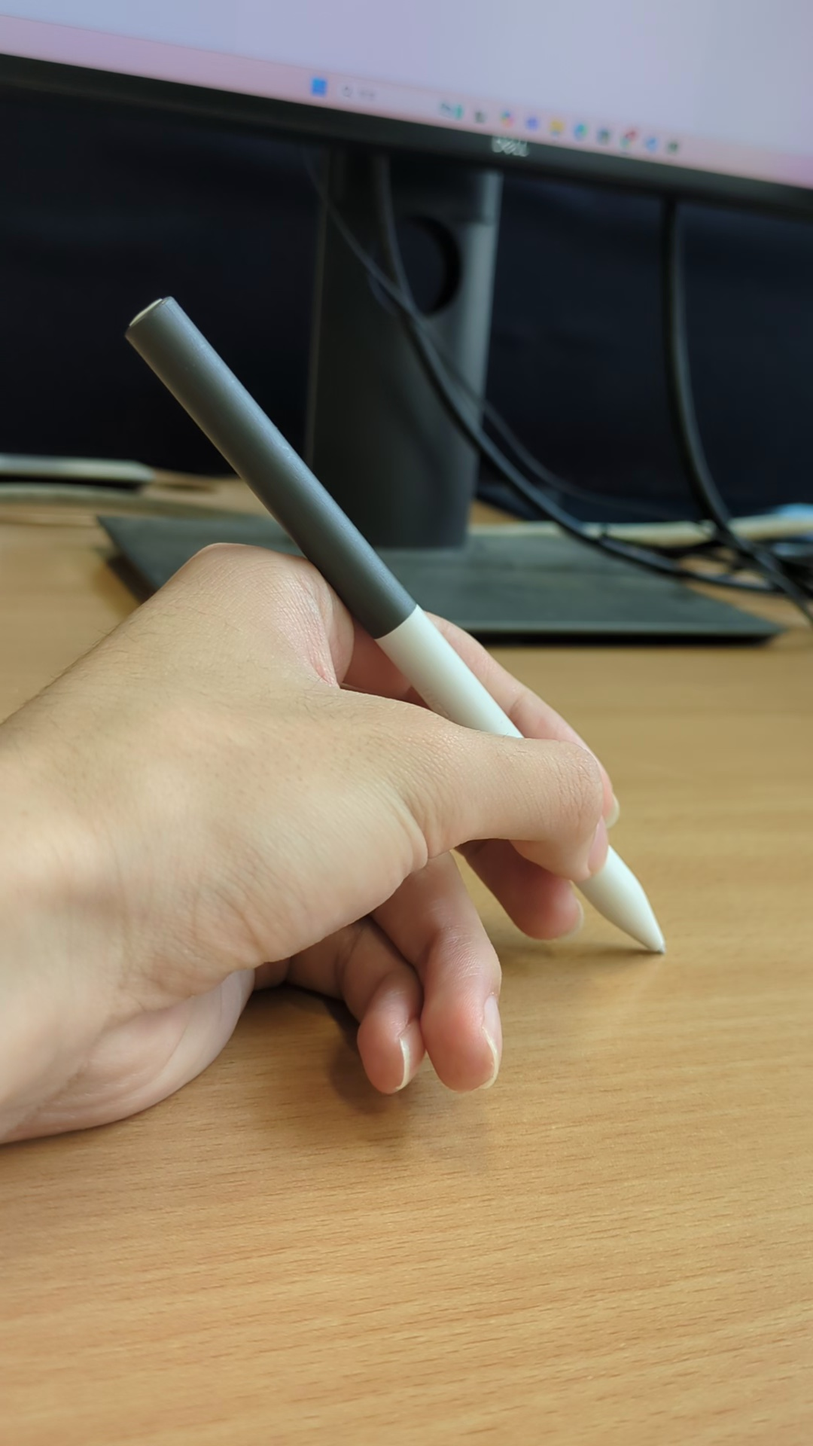pen: (125, 293, 672, 958)
tip: (647, 934, 671, 956)
